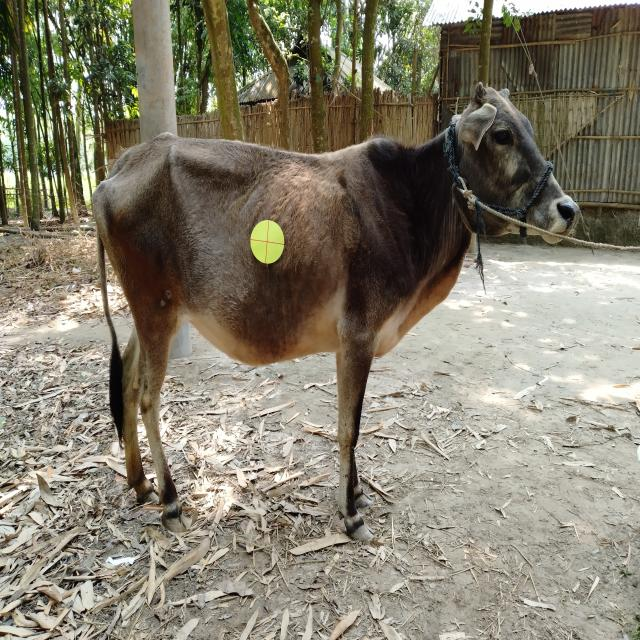badan_sapi: (97, 142, 431, 359)
sapi: (77, 70, 588, 552)
